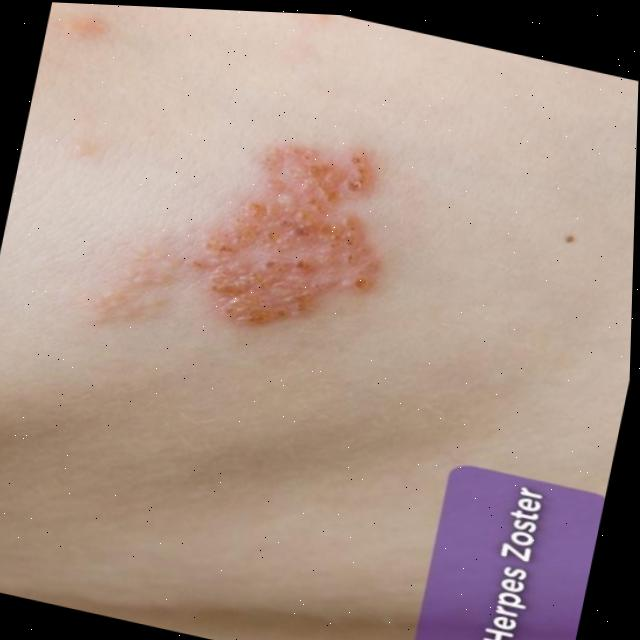Shingles: (120, 105, 418, 377)
